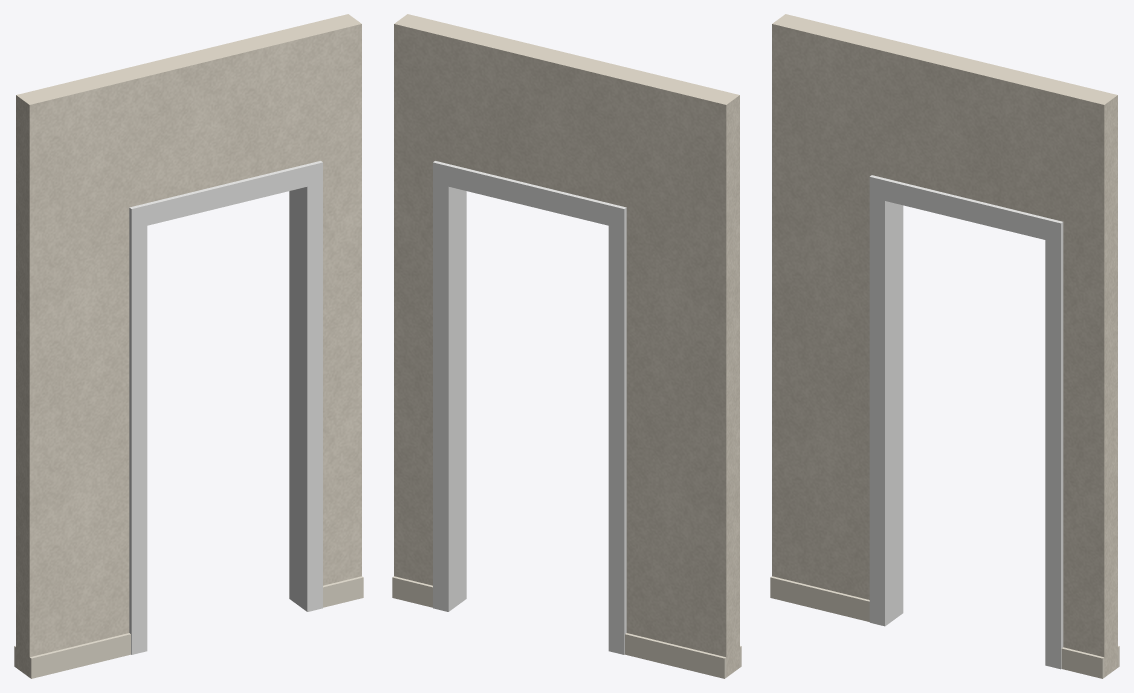
File: interior_wall_end_doorway.glb
3 views of the same model, side by side, from view 1: azimuth 30°, elevation 25°; view 2: azimuth 150°, elevation 25°; view 3: azimuth 330°, elevation 25° (orthographic).
Parts seen in each view (by area): view 1: interior_wall_end_doorway_plaster, interior_wall_end_doorway_frame, interior_wall_end_doorway_trim; view 2: interior_wall_end_doorway_plaster, interior_wall_end_doorway_frame, interior_wall_end_doorway_trim; view 3: interior_wall_end_doorway_plaster, interior_wall_end_doorway_frame, interior_wall_end_doorway_trim.
Boxes of the visible parts, left/top/right/bottom form: interior_wall_end_doorway_plaster: left=16, top=14, right=361, bottom=677; interior_wall_end_doorway_frame: left=129, top=161, right=322, bottom=654; interior_wall_end_doorway_trim: left=14, top=576, right=363, bottom=678; interior_wall_end_doorway_plaster: left=394, top=14, right=739, bottom=677; interior_wall_end_doorway_frame: left=433, top=161, right=626, bottom=654; interior_wall_end_doorway_trim: left=392, top=576, right=741, bottom=678; interior_wall_end_doorway_plaster: left=772, top=14, right=1117, bottom=677; interior_wall_end_doorway_frame: left=869, top=175, right=1063, bottom=669; interior_wall_end_doorway_trim: left=770, top=576, right=1119, bottom=678.
Size of the model in its own units: 1.7 by 2.8 by 0.16.
Materials: 3 (1 with a texture image).
